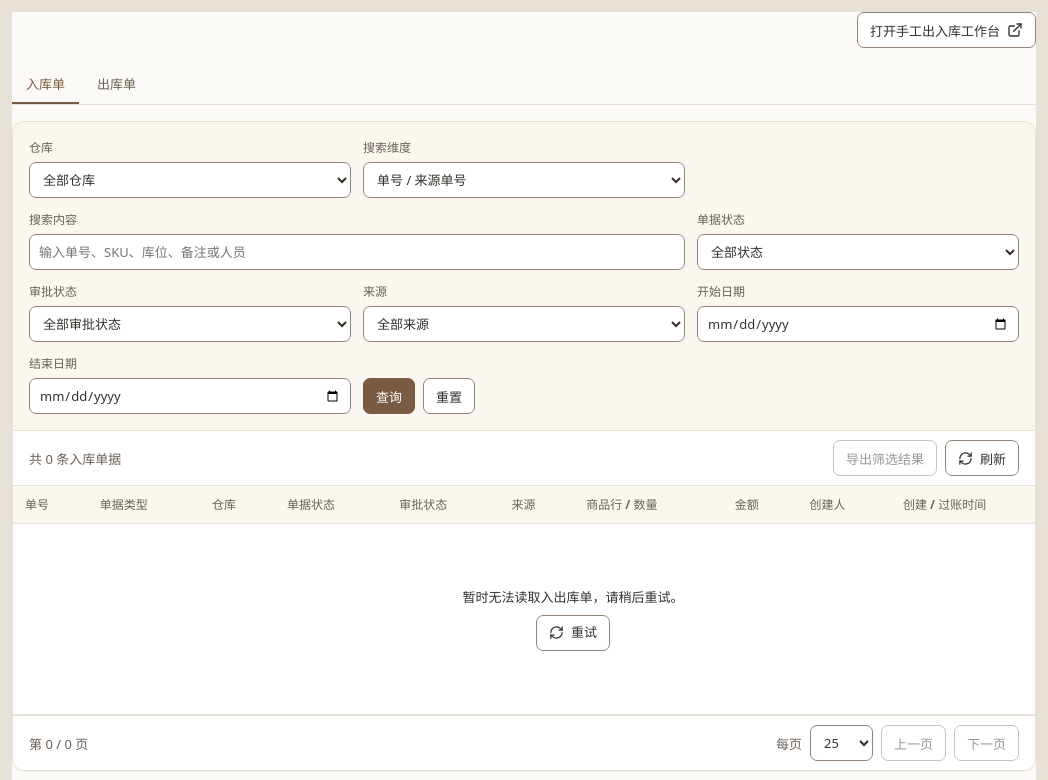
Test: InboundOutboundDocumentsPage › announces list errors and offers a working retry
The image size is (1048, 780).
expect the message shows "暂时无法读取入出库单，请稍后重试。": met, box [462,588,684,606]
Click the button "重试" at (573,633), box [536,615,610,651]
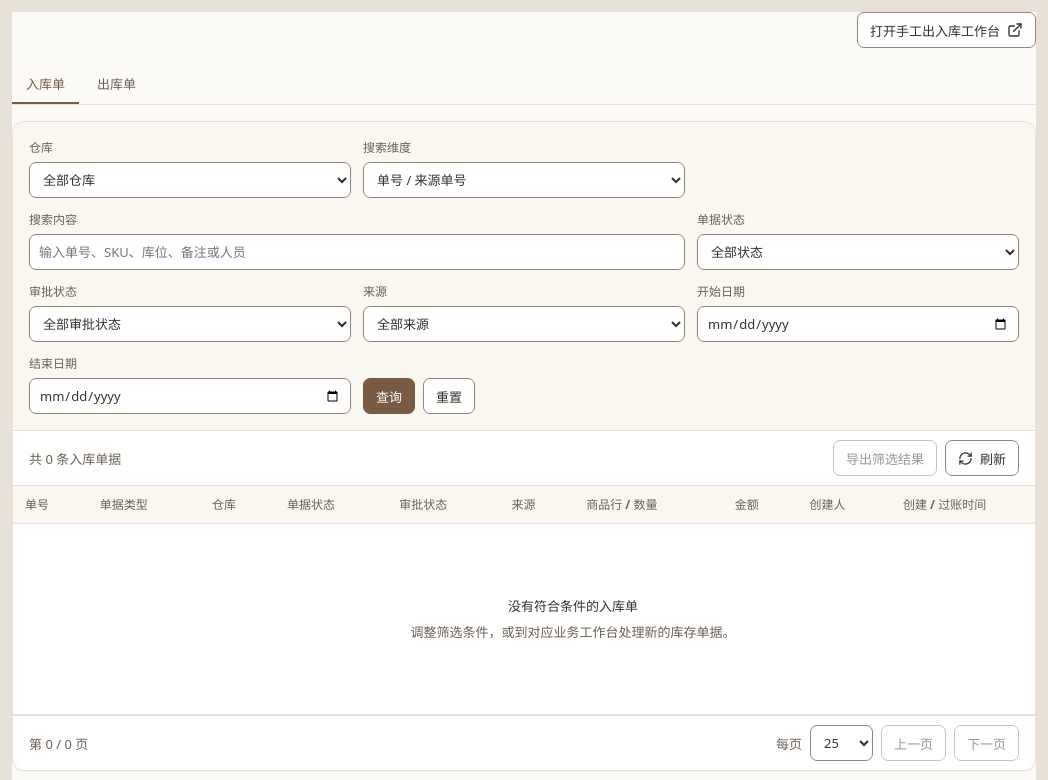
expect the text "没有符合条件的入库单" is shown: met, box [508,596,638,615]
